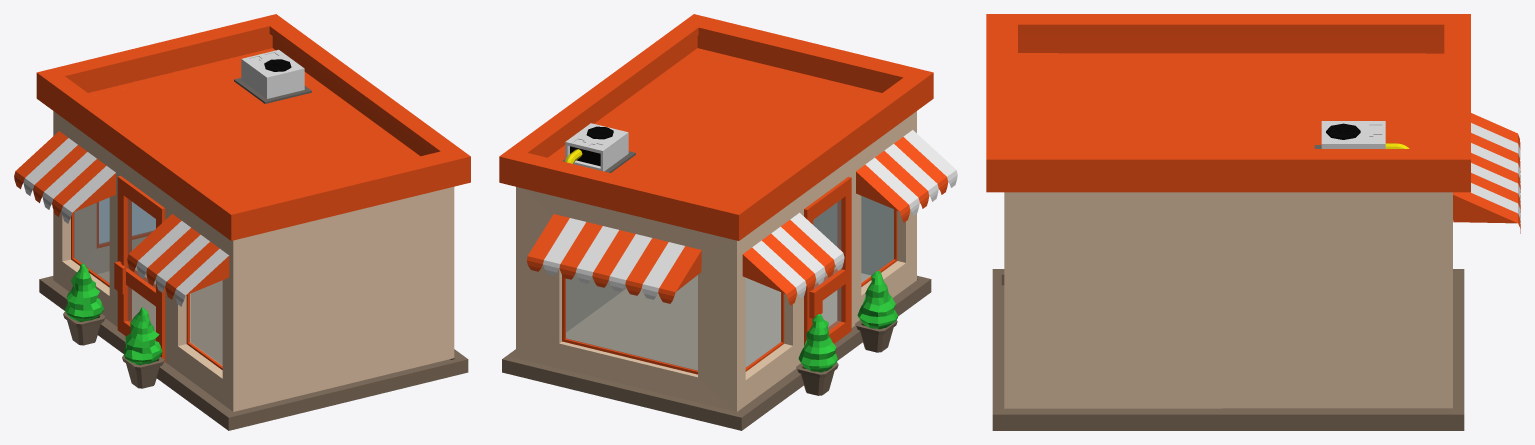
Rendered from market.glb.
3 renders of one model, left to right at view 1: azimuth 30°, elevation 25°; view 2: azimuth 150°, elevation 25°; view 3: azimuth 270°, elevation 25°, orthographic. The views are drawn at different scales.
Visible parts, largest first — view 1: tetto, casa base, tenda frontale piccola, base, porta, cespugli, vetro sx, vetro dx, cassetta.001, vetri porta, piante, vetro facciata sxx (+1 smaller); view 2: tetto, casa base, tenda frontale piccola, tenda frontale.001, vetro facciata sxx, base, porta, cespugli, vetro sx, vetro dx, cassetta.001, vetri porta (+1 smaller); view 3: casa base, tetto, base, tenda frontale.001, cassetta.001.
Part boxes in pixels (x1,y1,x2,y2): tetto: [36, 14, 470, 240]; casa base: [53, 111, 454, 411]; tenda frontale piccola: [14, 131, 229, 306]; base: [39, 276, 468, 430]; porta: [114, 176, 165, 361]; cespugli: [65, 263, 162, 364]; vetro sx: [74, 197, 109, 283]; vetro dx: [190, 280, 222, 365]; cassetta.001: [241, 49, 304, 98]; vetri porta: [127, 199, 155, 340]; piante: [63, 311, 164, 388]; vetro facciata sxx: [99, 198, 155, 244]; tetto: [499, 14, 933, 240]; casa base: [516, 111, 916, 411]; tenda frontale piccola: [742, 130, 957, 305]; tenda frontale.001: [527, 214, 701, 303]; vetro facciata sxx: [565, 273, 697, 370]; base: [502, 275, 931, 430]; porta: [804, 176, 851, 345]; cespugli: [798, 271, 897, 372]; vetro sx: [745, 278, 781, 367]; vetro dx: [861, 196, 893, 282]; cassetta.001: [565, 123, 628, 171]; vetri porta: [813, 200, 841, 330]; casa base: [1004, 192, 1452, 408]; tetto: [986, 14, 1470, 192]; base: [992, 269, 1464, 430]; tenda frontale.001: [1453, 113, 1520, 233]; cassetta.001: [1321, 121, 1385, 148].
Bounding box in the file's own units: 4.37 × 3.31 × 5.89.
